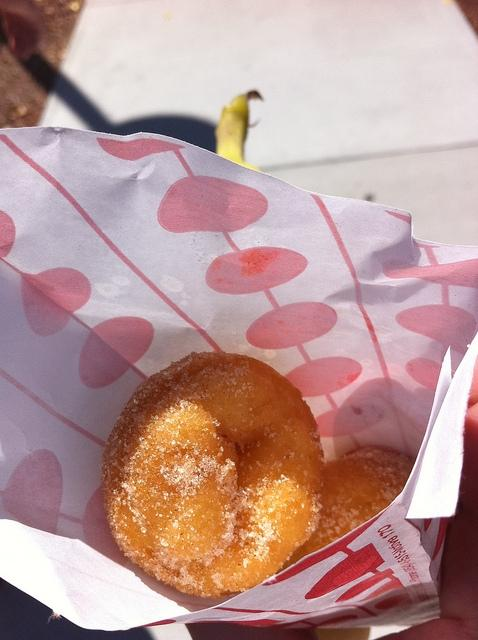banana: (214, 91, 264, 172)
